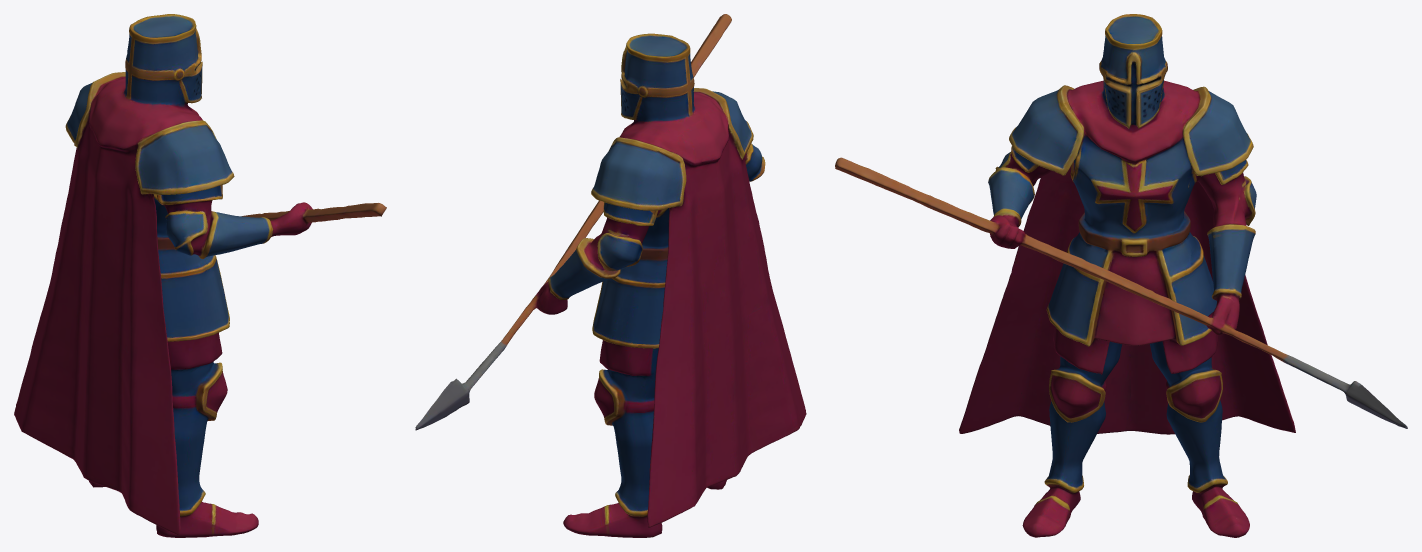
The model's file is knight spear.glb.
3 renders of one model, left to right at view 1: azimuth 30°, elevation 25°; view 2: azimuth 150°, elevation 25°; view 3: azimuth 270°, elevation 25°, orthographic. The views are drawn at different scales.
Visible parts, largest first — view 1: tripo_node_b75a620c; view 2: tripo_node_b75a620c; view 3: tripo_node_b75a620c.
Part boxes in pixels (bbox=[...]): tripo_node_b75a620c: bbox=[14, 14, 386, 537]; tripo_node_b75a620c: bbox=[415, 14, 806, 537]; tripo_node_b75a620c: bbox=[835, 14, 1407, 537].
Size of the model in its own units: 0.4265 by 0.9308 by 0.9899.
Materials: 1 (1 with a texture image).
